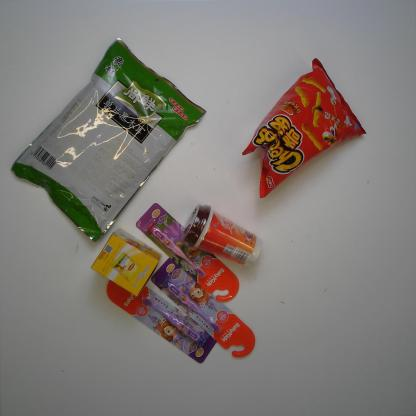Dried Food: (10, 34, 209, 243)
Instant Drink: (182, 200, 262, 266), (90, 227, 162, 300)
Personal Hygiene: (148, 255, 258, 362), (136, 202, 240, 304), (104, 278, 217, 366)
Puffed Food: (241, 55, 369, 202)
